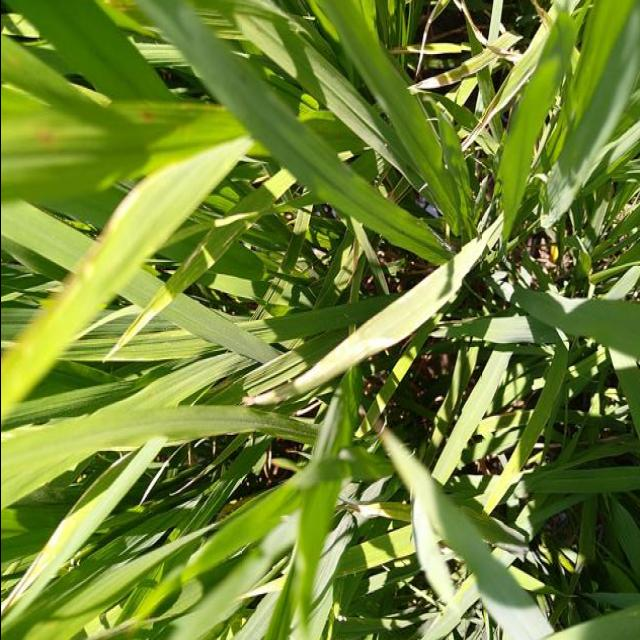Leaf Blight: (463, 20, 550, 151)
Leaf Streak: (246, 225, 491, 406), (411, 49, 498, 88)
